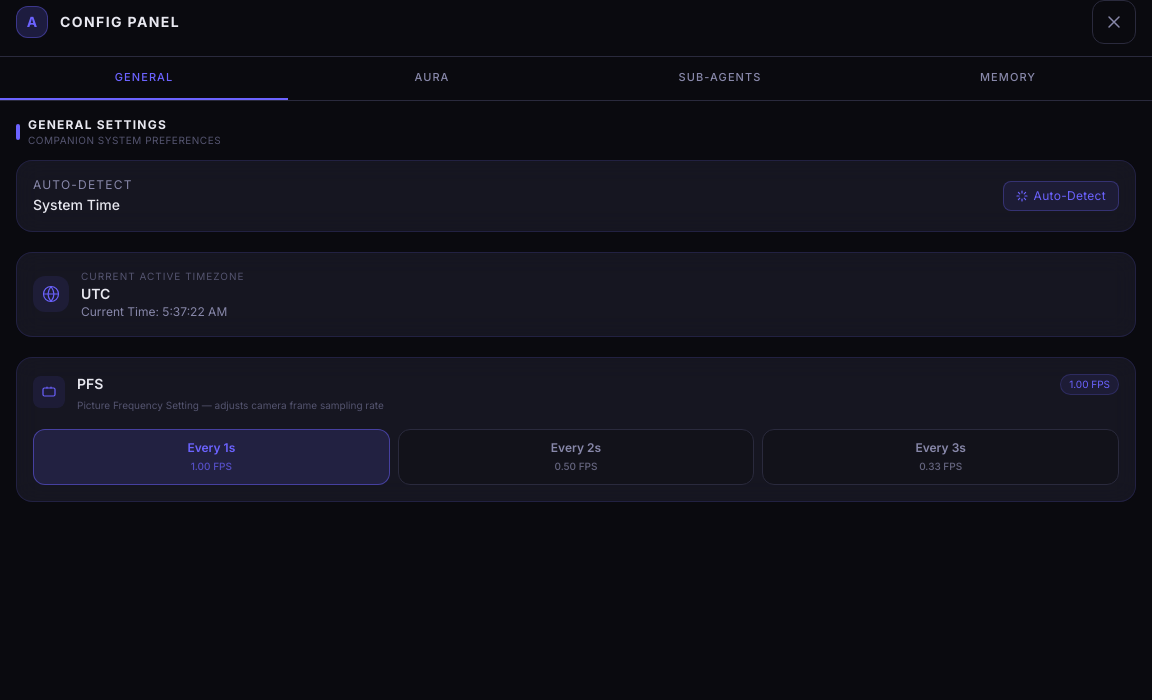
Test case: ConfigPanel › switches to Memory tab on click
Click the tab "Memory" at {"x": 1008, "y": 78}, box [864, 57, 1151, 100]
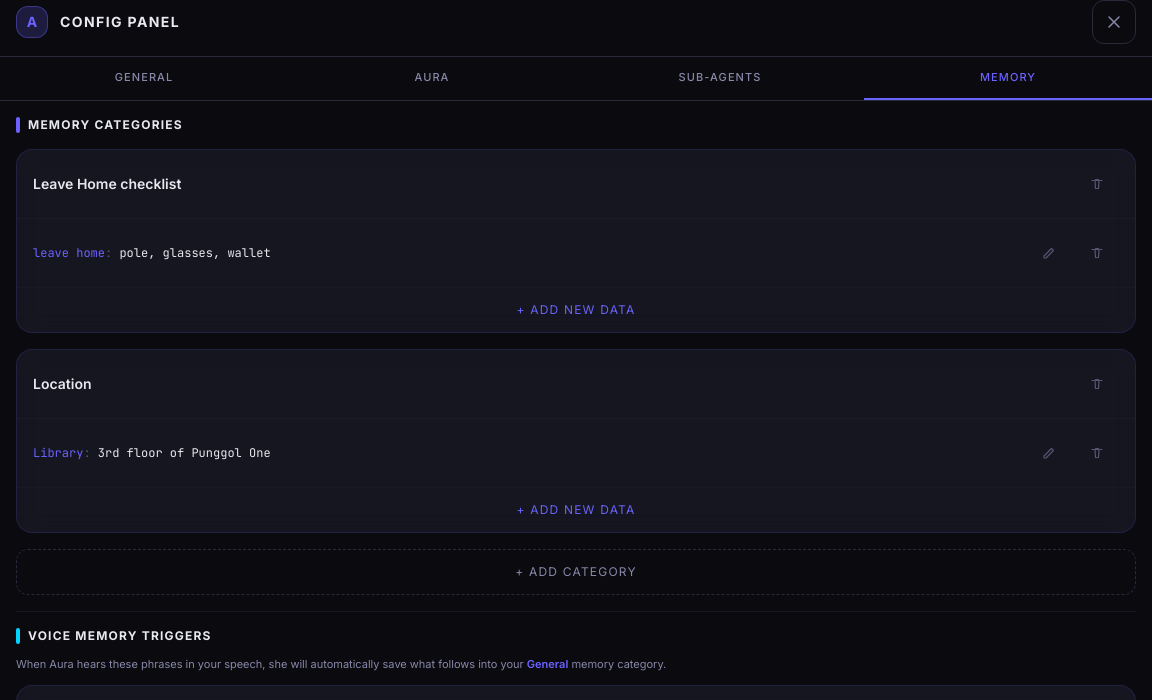
Check: the heading "Memory Categories" is shown, box [28, 116, 183, 132]
